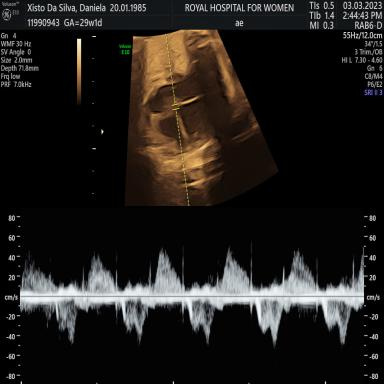Ultrasound-Waves: (27, 216, 364, 384)
